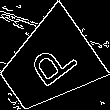P_SW: (19, 35, 78, 94)
